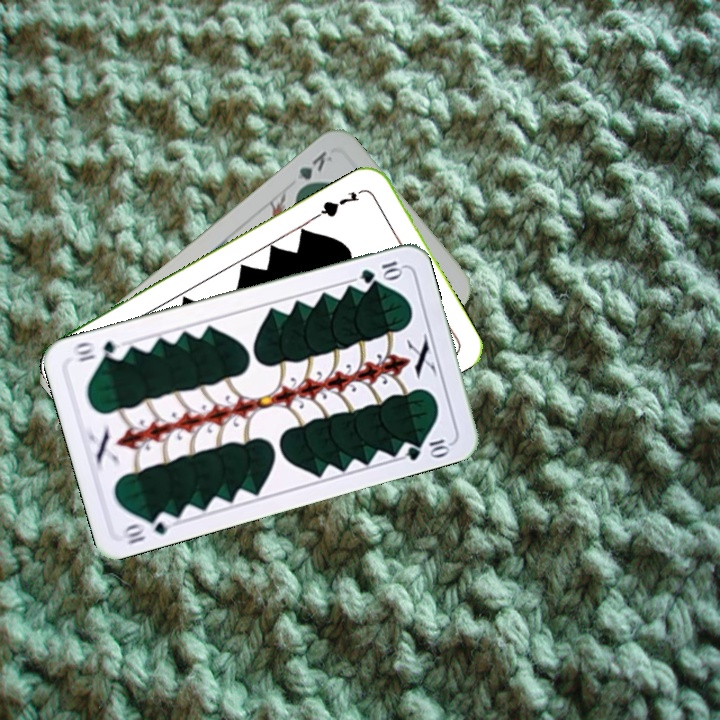G10: (120, 508, 177, 547), (356, 257, 405, 286)
G7: (313, 184, 368, 220)
GK: (291, 147, 335, 196)
